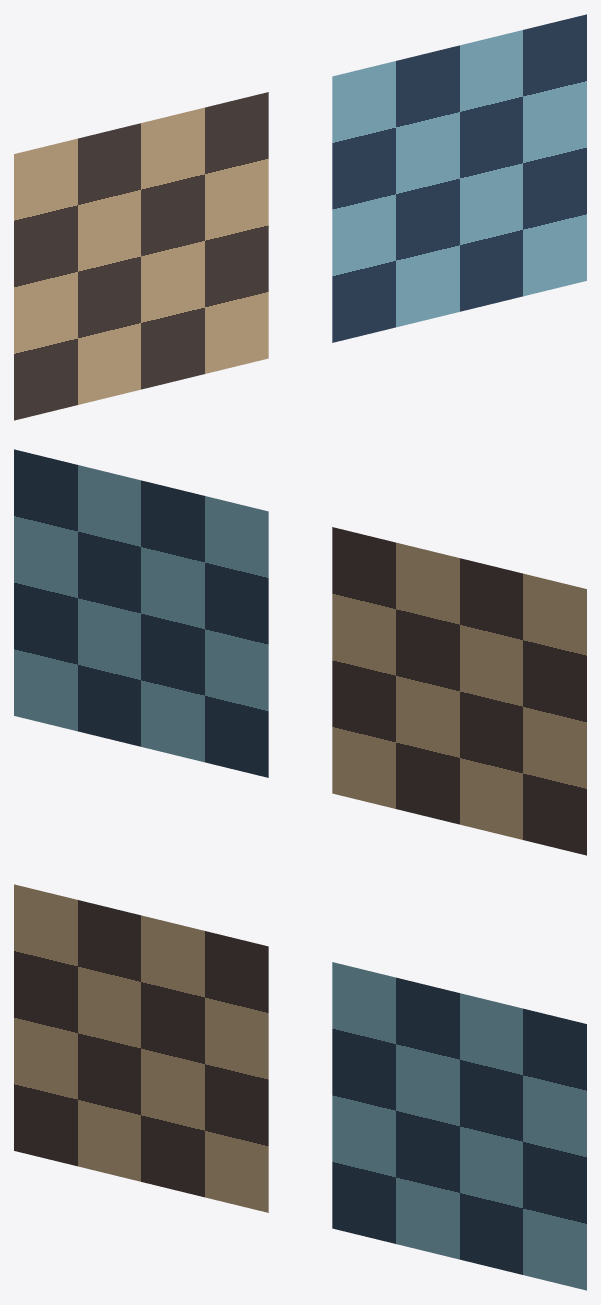
The model's file is scene_structural.gltf.
The picture shows the model from 3 angles, top to bottom: view 1: azimuth 30°, elevation 25°; view 2: azimuth 150°, elevation 25°; view 3: azimuth 330°, elevation 25°; orthographic projection.
Parts seen in each view (by area): view 1: left, right; view 2: left, right; view 3: left, right.
Part boxes in pixels (left/top/right/bottom): left: left=14, top=92, right=268, bottom=420; right: left=332, top=14, right=586, bottom=342; left: left=332, top=527, right=586, bottom=855; right: left=14, top=449, right=268, bottom=777; left: left=14, top=884, right=268, bottom=1212; right: left=332, top=962, right=586, bottom=1290.
Bounding box in the file's own units: 3.6 × 1.6 × 0.
Materials: 2 (2 with a texture image).
